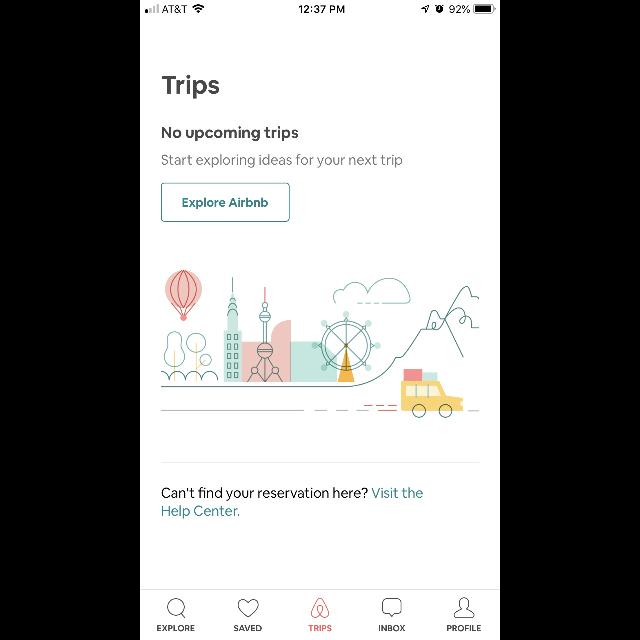icon: (382, 598, 402, 618), (454, 598, 474, 618), (167, 598, 186, 618), (238, 599, 258, 617)
image: (161, 270, 479, 418), (311, 598, 329, 618)
text: (162, 488, 422, 518), (162, 154, 402, 168), (162, 126, 298, 142), (162, 75, 220, 99), (157, 624, 195, 632), (448, 625, 480, 631), (234, 625, 262, 631), (379, 625, 405, 631), (308, 625, 332, 631)
textbutton: (161, 182, 289, 222)
uppertaskbar: (140, 0, 500, 14)
